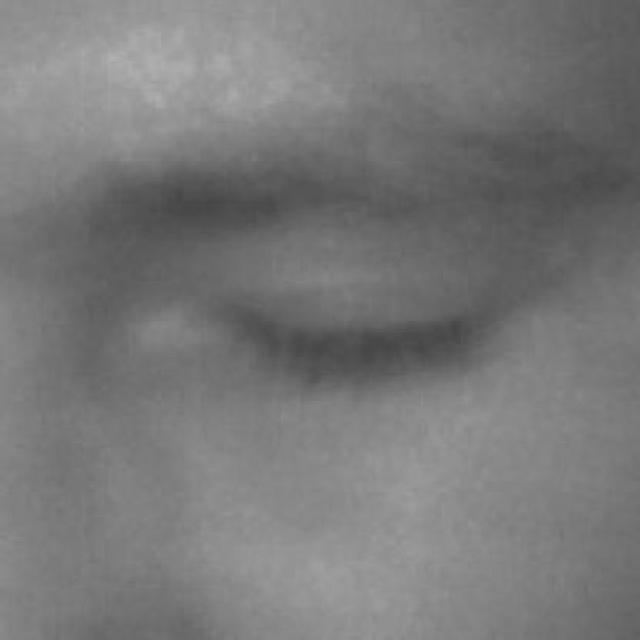drowsy: (223, 202, 479, 490)
